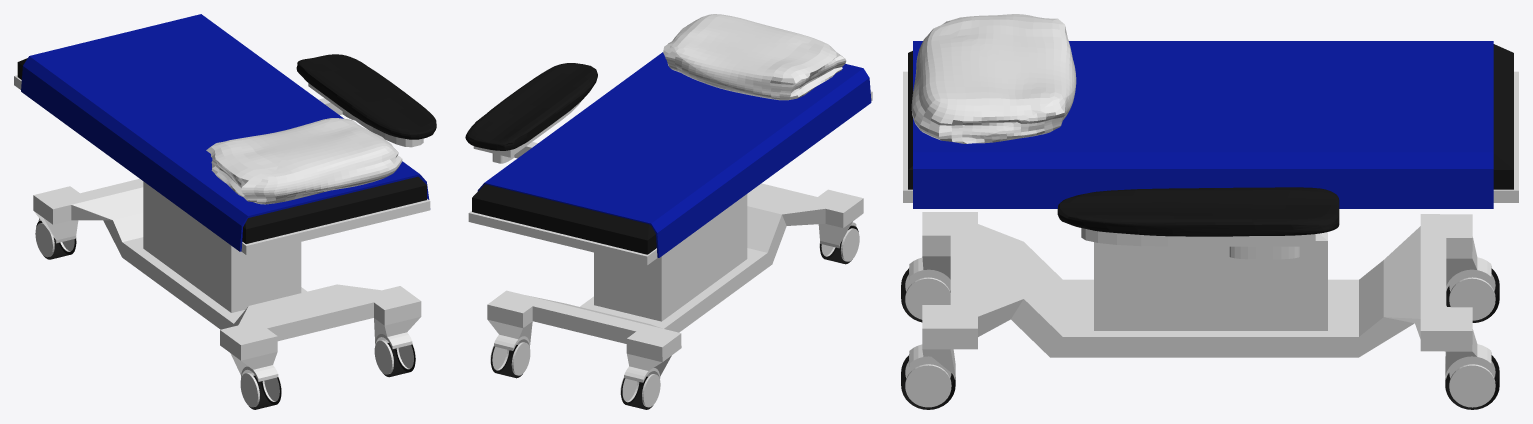
File: HospitalBed.fbx
3 views of the same model, side by side, from view 1: azimuth 30°, elevation 25°; view 2: azimuth 150°, elevation 25°; view 3: azimuth 270°, elevation 25° (orthographic). The views are drawn at different scales.
Visible parts, largest first — view 1: Bed, Blanket, pillow, ArmPillow, Underside_arm; view 2: Blanket, Bed, pillow, ArmPillow, Underside_arm; view 3: Blanket, Bed, pillow, ArmPillow, Underside_arm.
Part boxes in pixels (x1,y1,x2,y2): Bed: (14, 58, 430, 409); Blanket: (21, 14, 429, 251); pillow: (206, 118, 402, 204); ArmPillow: (296, 54, 436, 139); Underside_arm: (308, 83, 423, 147); Blanket: (477, 52, 871, 257); Bed: (468, 91, 872, 409); pillow: (663, 14, 846, 100); ArmPillow: (465, 63, 597, 150); Underside_arm: (473, 102, 580, 163); Blanket: (913, 41, 1493, 208); Bed: (901, 44, 1518, 409); pillow: (911, 14, 1076, 143); ArmPillow: (1057, 187, 1339, 236); Underside_arm: (1081, 228, 1315, 259).
Size of the model in its own units: 288 by 236 by 438.
